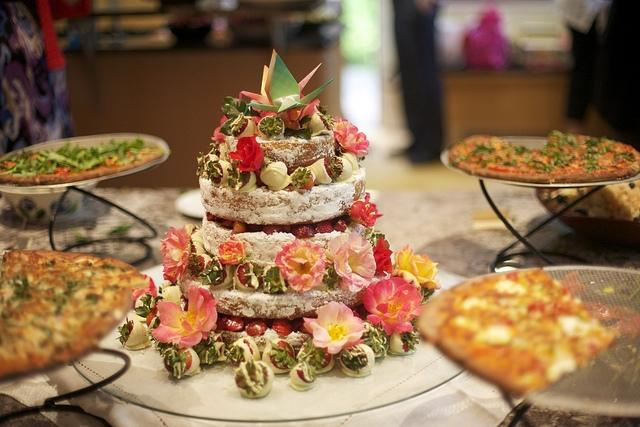strawberry: (234, 357, 274, 398), (162, 342, 202, 379), (297, 338, 335, 374), (262, 338, 298, 374), (340, 344, 374, 378), (306, 156, 342, 186), (362, 320, 390, 357), (260, 161, 293, 191), (226, 162, 258, 192), (200, 256, 228, 286), (134, 294, 159, 327), (237, 262, 265, 289), (224, 340, 253, 366), (263, 266, 289, 295), (207, 160, 233, 188), (321, 259, 343, 290), (306, 112, 332, 138), (258, 115, 284, 141), (197, 152, 220, 178), (331, 156, 353, 182), (188, 254, 212, 277), (338, 146, 360, 171), (291, 168, 315, 190), (230, 118, 254, 140), (400, 331, 422, 352), (271, 318, 293, 336), (245, 320, 268, 336), (292, 224, 314, 239), (314, 220, 334, 234), (226, 316, 244, 331), (297, 370, 314, 384), (262, 225, 283, 236), (190, 244, 208, 256), (216, 316, 228, 332), (356, 304, 367, 320), (292, 318, 304, 332), (334, 218, 346, 232), (233, 222, 247, 234), (222, 220, 234, 228), (214, 216, 224, 224), (207, 212, 214, 220)
